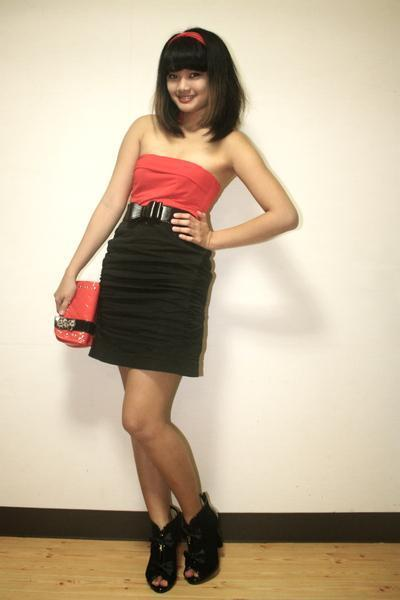bag: (54, 281, 98, 346)
shirt: (126, 150, 219, 216)
shoe: (140, 493, 221, 592)
skirt: (84, 204, 211, 379)
